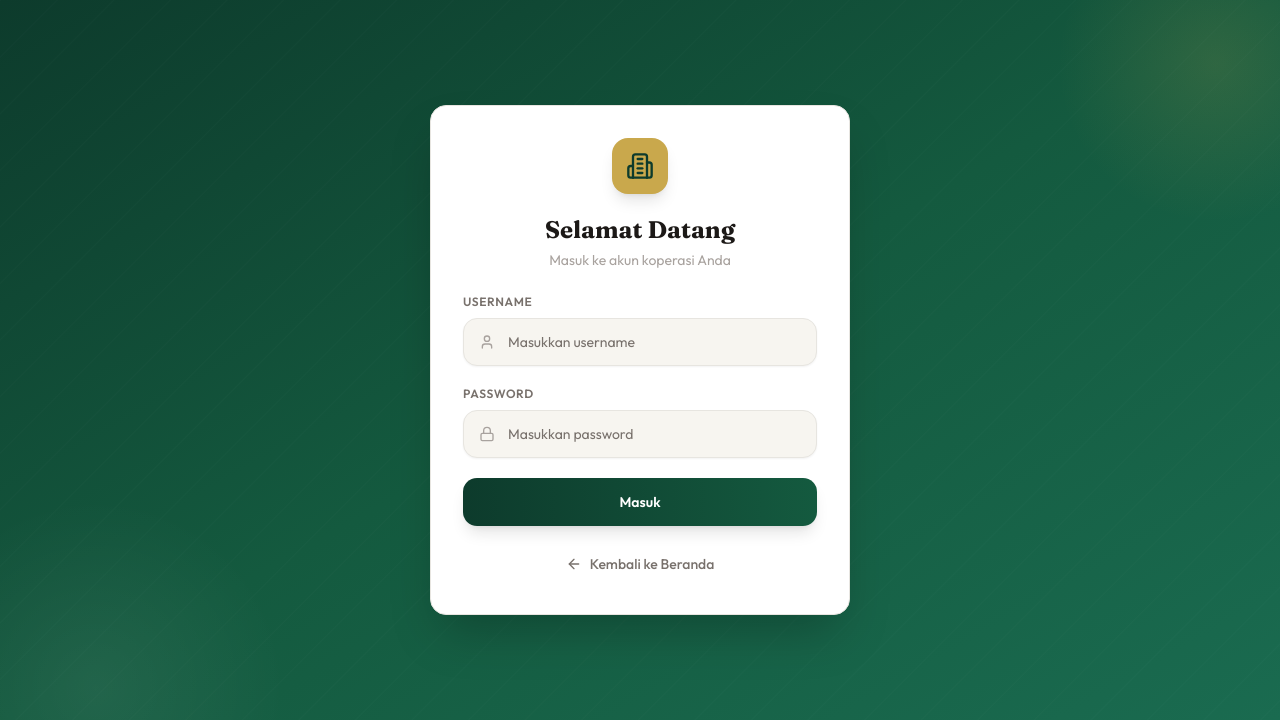
Scenario: Login Page › Validasi Form › menampilkan error jika password kosong saat submit
Type "johndoe" into the field labelled "Username". click: (640,342)
box: top-left (463, 318), bottom-right (817, 366)
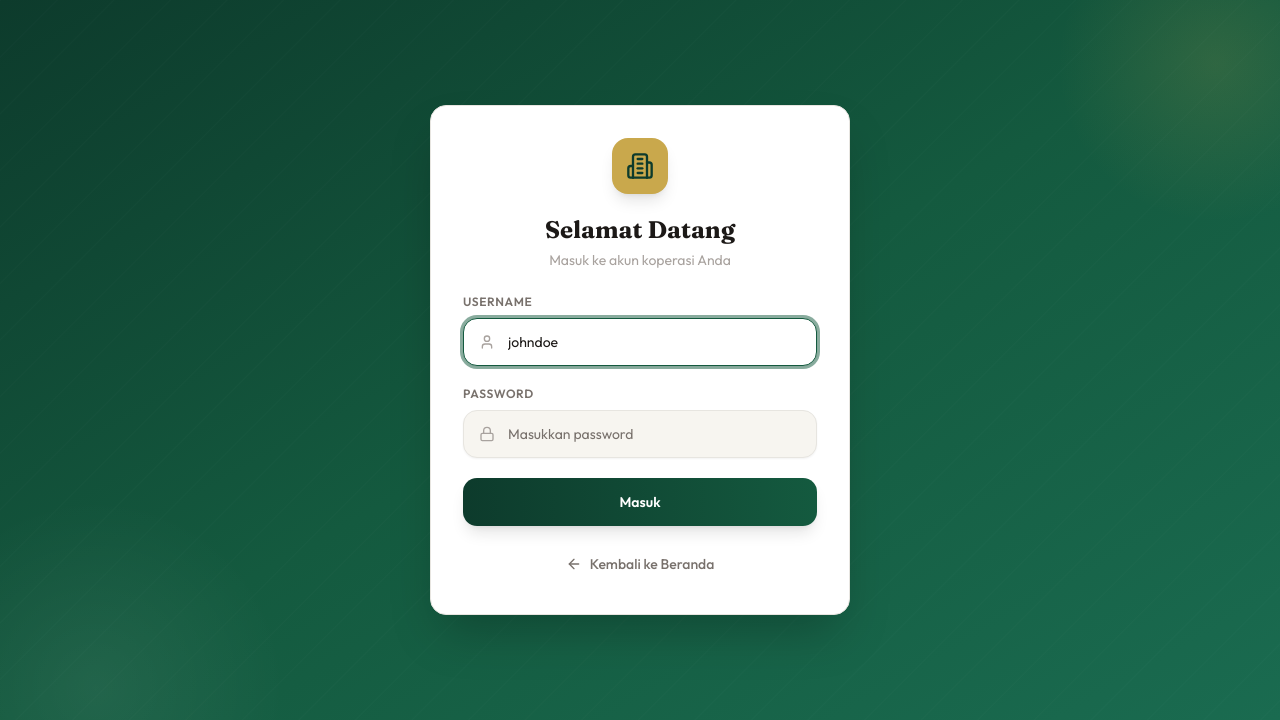
Click the button "Masuk". click: (640,502)
box: top-left (463, 478), bottom-right (817, 526)
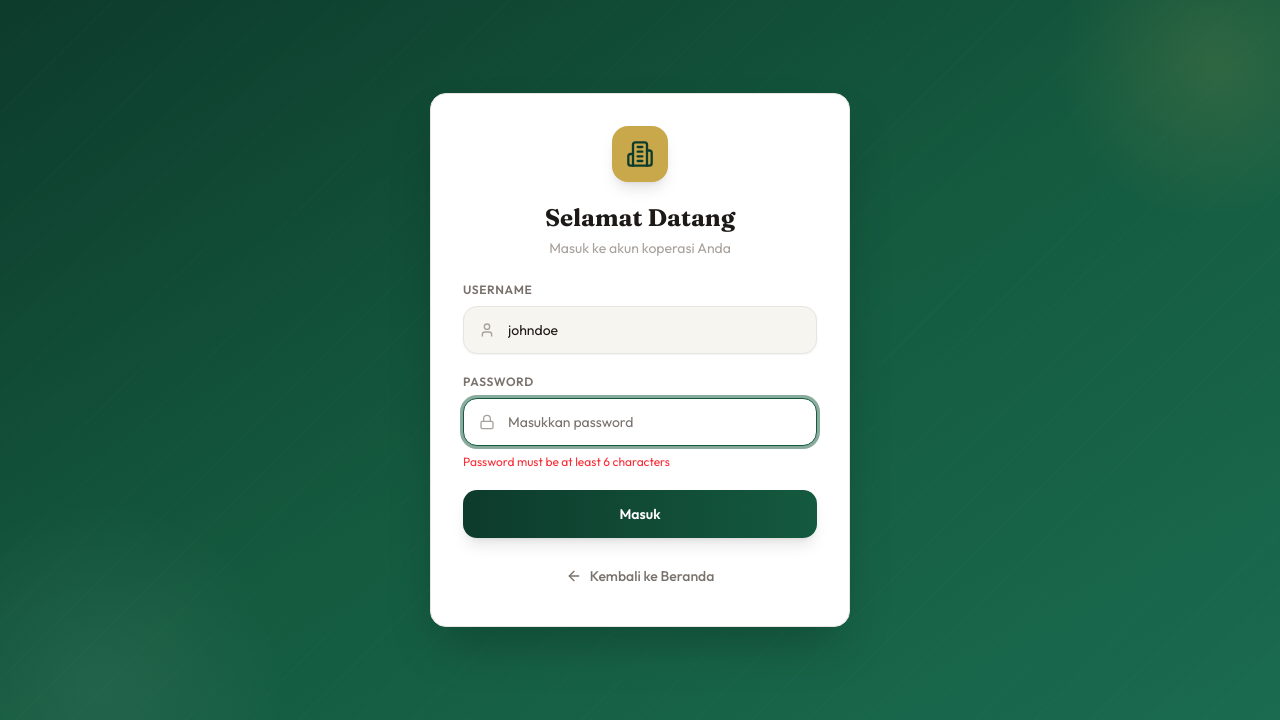
Result: the text "Password must be at least 6 characters" is shown at top-left (463, 454), bottom-right (670, 469)
